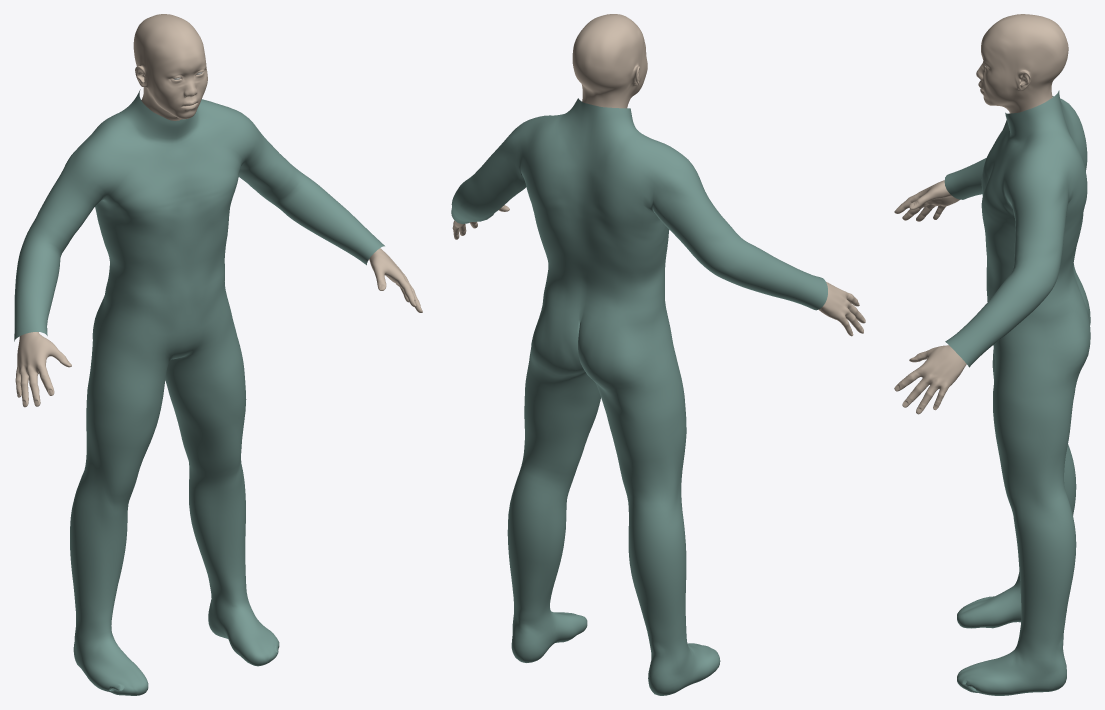
The model's file is male-ordinary.glb.
The picture shows the model from 3 angles, left to right: view 1: azimuth 30°, elevation 25°; view 2: azimuth 150°, elevation 25°; view 3: azimuth 270°, elevation 25°; orthographic projection.
Parts seen in each view (by area): view 1: helper-tights, body; view 2: helper-tights, body; view 3: helper-tights, body.
Boxes of the visible parts, x1,y1,x2,y2 form: helper-tights: (14,89,384,695); body: (15,14,422,407); helper-tights: (451,98,827,695); body: (452,14,865,336); helper-tights: (944,90,1090,695); body: (894,14,1068,414).
Bounding box in the file's own units: 1.14 × 1.76 × 0.4896.
